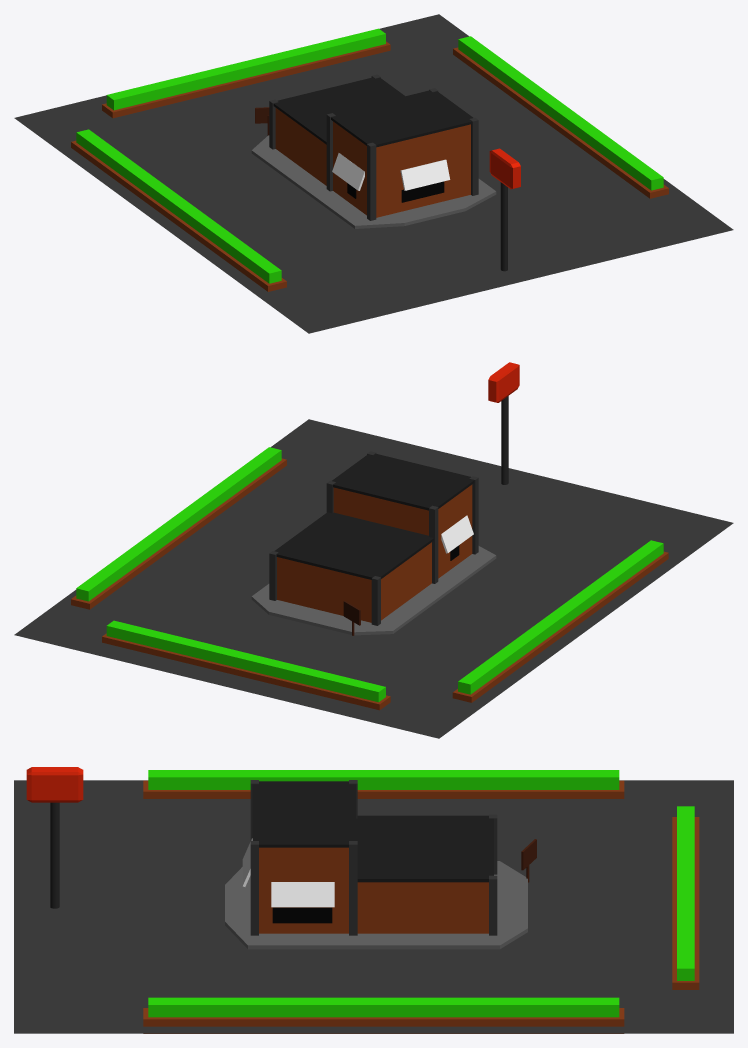
Rendered from DriveThruMenuV5.fbx.
3 views of the same model, one above another, from view 1: azimuth 30°, elevation 25°; view 2: azimuth 150°, elevation 25°; view 3: azimuth 270°, elevation 25° (orthographic). The views are drawn at different scales.
Visible parts, largest first — view 1: Ground, Building, Cube.014, Cube.011, Cube.018, Cube.015, Cube.008, Cube.012, Cube.013, Cube.007, Cube.017, Cube.016 (+5 smaller); view 2: Ground, Building, Cube.012, Cube.014, Cube.011, Cube.018, Cube.015, Cube.008, Cube.013, Cube.007, Cube.017, Cube.016 (+3 smaller); view 3: Ground, Building, Cube.015, Cube.012, Cube.018, Cube.008, Cube.011, Cube.016, Cube.017, Cube.014, Cube.007, Cube.013 (+4 smaller).
Boxes of the visible parts, x1,y1,x2,y2 form: Ground: (14, 14, 733, 333); Building: (275, 108, 470, 217); Cube.014: (106, 28, 385, 110); Cube.011: (331, 90, 473, 147); Cube.018: (76, 129, 281, 283); Cube.015: (458, 36, 663, 190); Cube.008: (251, 135, 496, 228); Cube.012: (273, 77, 404, 144); Cube.013: (102, 41, 390, 118); Cube.007: (269, 74, 478, 220); Cube.017: (71, 140, 286, 291); Cube.016: (453, 47, 668, 198); Ground: (14, 419, 733, 738); Building: (277, 484, 472, 622); Cube.012: (274, 512, 433, 579); Cube.014: (106, 620, 385, 702); Cube.011: (332, 453, 474, 510); Cube.018: (458, 540, 663, 694); Cube.015: (76, 447, 281, 601); Cube.008: (251, 546, 496, 635); Cube.013: (102, 633, 390, 710); Cube.007: (269, 451, 478, 625); Cube.017: (452, 551, 668, 702); Cube.016: (71, 458, 286, 609); Ground: (14, 780, 733, 1033); Building: (259, 847, 488, 933); Cube.015: (148, 997, 619, 1017); Cube.012: (356, 815, 493, 882); Cube.018: (148, 770, 619, 789); Cube.008: (225, 861, 527, 949); Cube.011: (252, 781, 355, 847); Cube.016: (143, 1008, 624, 1033); Cube.017: (143, 780, 624, 798); Cube.014: (677, 806, 694, 980); Cube.007: (250, 780, 497, 935); Cube.013: (672, 817, 699, 989).
Bounding box in the file's own units: 421646 × 141370 × 506467.
